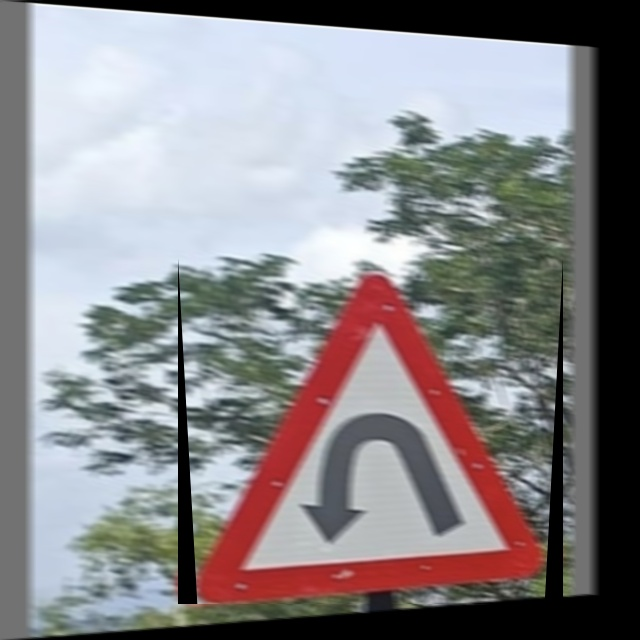Left_Hair_Pin_Bend: (178, 258, 563, 604)
